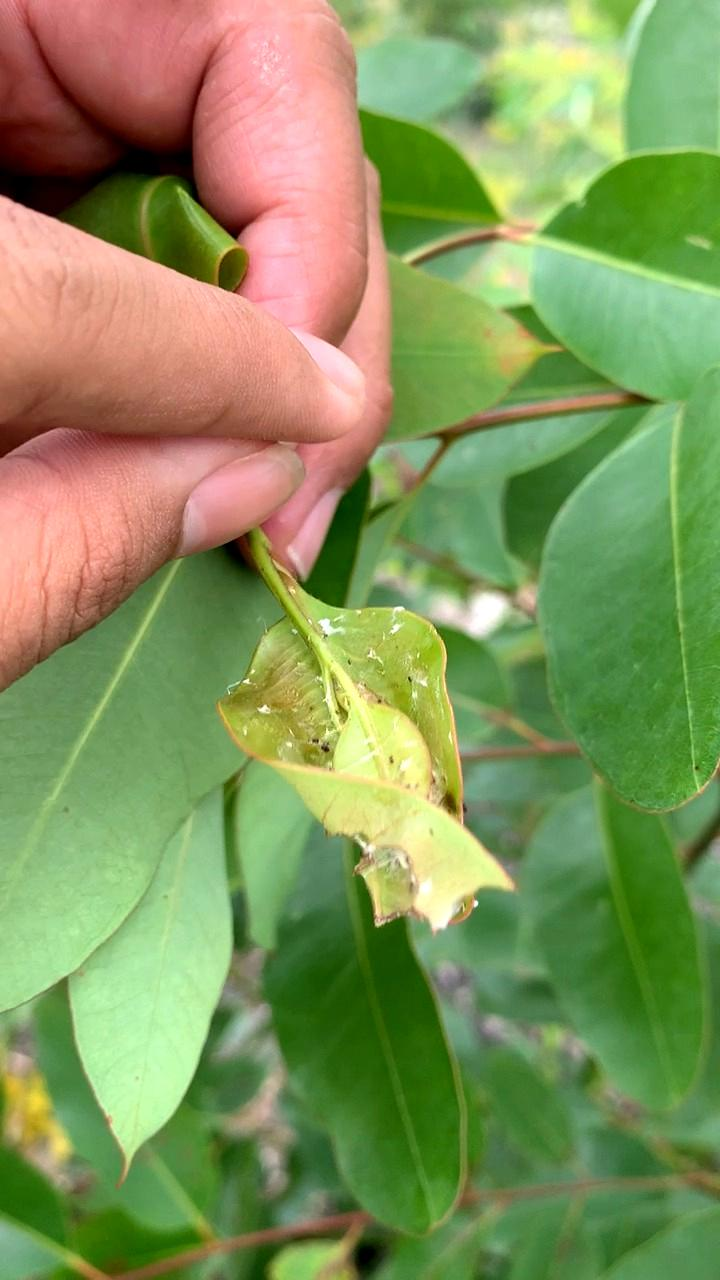Leaf Roller - Leaf: (235, 593, 511, 947)
